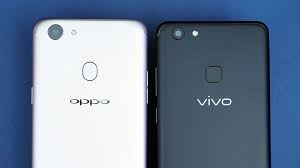oppo: (27, 14, 149, 168)
